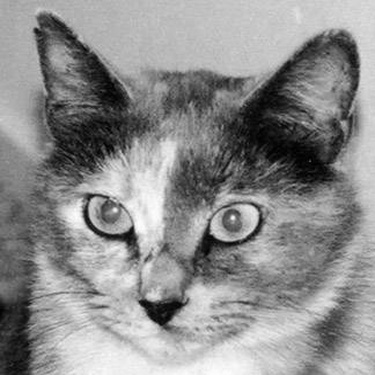cat: (22, 5, 370, 371)
